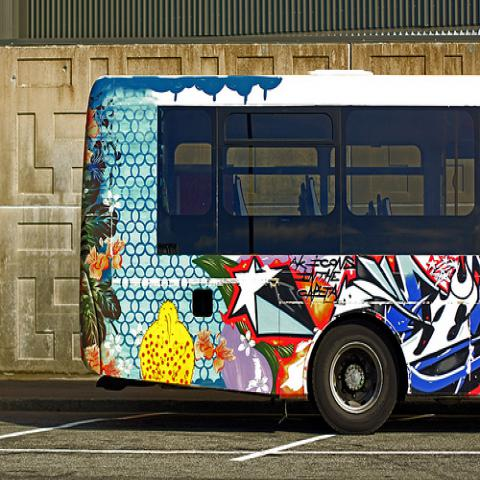bus: (77, 70, 479, 428)
